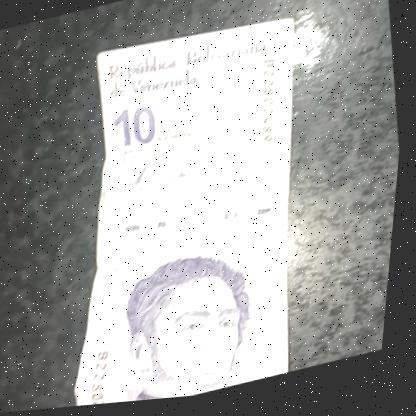ten-front-vef: (26, 4, 351, 412)
